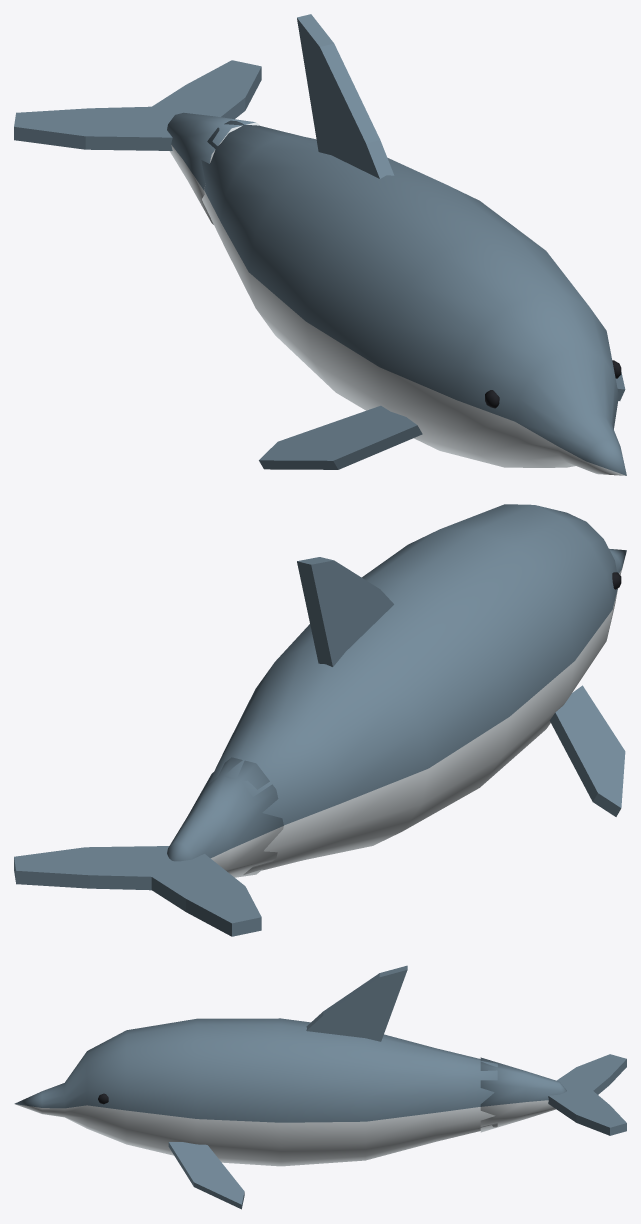
File: dolphin.glb
3 renders of one model, top to bottom at view 1: azimuth 30°, elevation 25°; view 2: azimuth 150°, elevation 25°; view 3: azimuth 270°, elevation 25°, orthographic. The views are drawn at different scales.
Visible parts, largest first — view 1: Dolphin_Body, Dolphin_Tail, Dolphin_FinR; view 2: Dolphin_Body, Dolphin_Tail, Dolphin_FinR; view 3: Dolphin_Body, Dolphin_Tail, Dolphin_FinL.
Boxes of the visible parts, x1,y1,x2,y2 form: Dolphin_Body: (201, 14, 626, 475); Dolphin_Tail: (14, 60, 261, 224); Dolphin_FinR: (259, 405, 422, 469); Dolphin_Body: (208, 504, 626, 874); Dolphin_Tail: (14, 757, 283, 936); Dolphin_FinR: (549, 685, 625, 816); Dolphin_Body: (14, 965, 497, 1166); Dolphin_Tail: (480, 1054, 626, 1135); Dolphin_FinL: (168, 1142, 244, 1209).
Size of the model in its own units: 0.9076 by 0.755 by 2.18.
